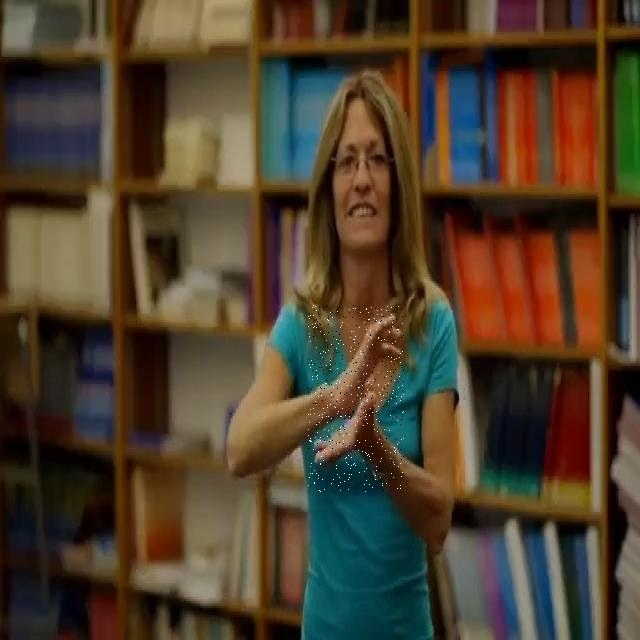cheese: (308, 305, 404, 492)
